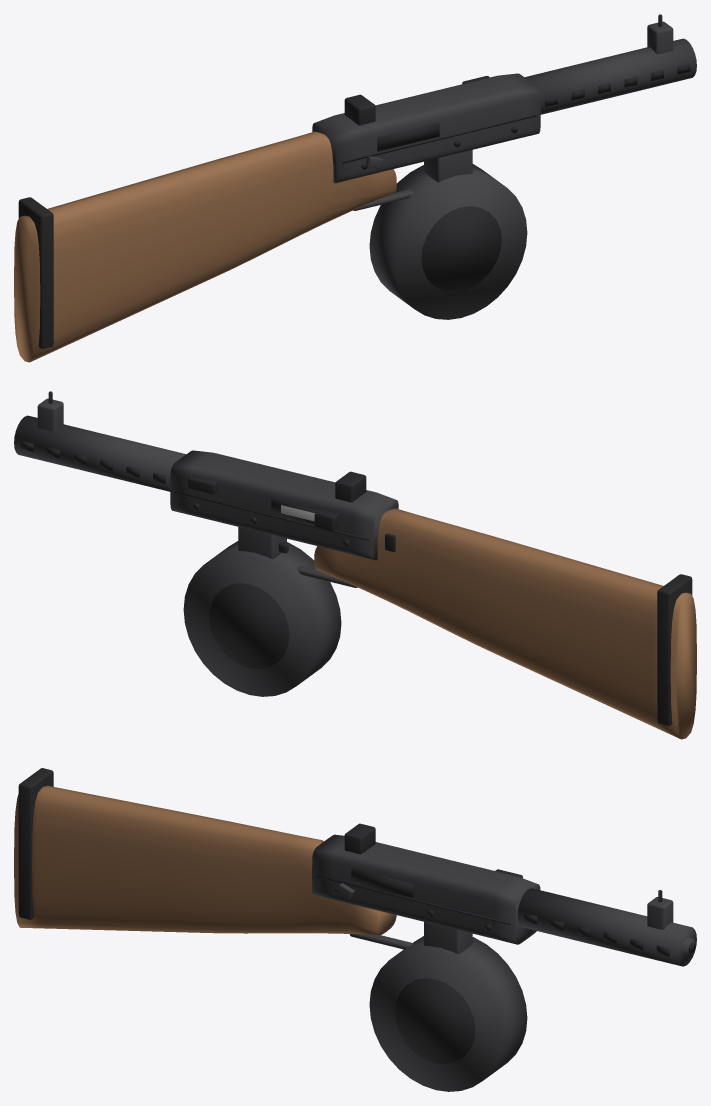
Rendered from SM_PPSh.glb.
The picture shows the model from 3 angles, top to bottom: view 1: azimuth 30°, elevation 25°; view 2: azimuth 150°, elevation 25°; view 3: azimuth 330°, elevation 25°; orthographic projection.
Visible parts, largest first — view 1: SM_PPSh; view 2: SM_PPSh; view 3: SM_PPSh.
Boxes of the visible parts, left/top/right/bottom form: SM_PPSh: left=14, top=14, right=696, bottom=362; SM_PPSh: left=14, top=391, right=696, bottom=739; SM_PPSh: left=14, top=768, right=696, bottom=1091.
Bounding box in the file's own units: 0.7565 × 0.2625 × 0.067.
